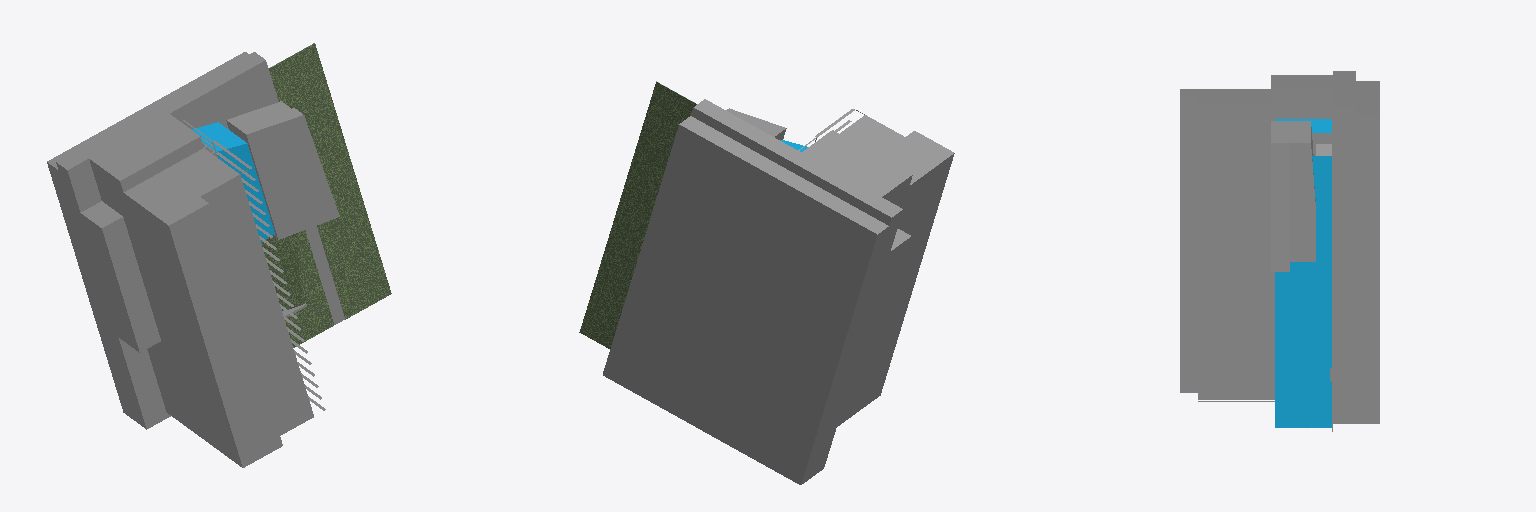
3 renders of one model, left to right at view 1: azimuth 30°, elevation 25°; view 2: azimuth 150°, elevation 25°; view 3: azimuth 270°, elevation 25°, orthographic.
Size of the model in its own units: 289 by 295 by 154.
Materials: 3 (1 with a texture image).